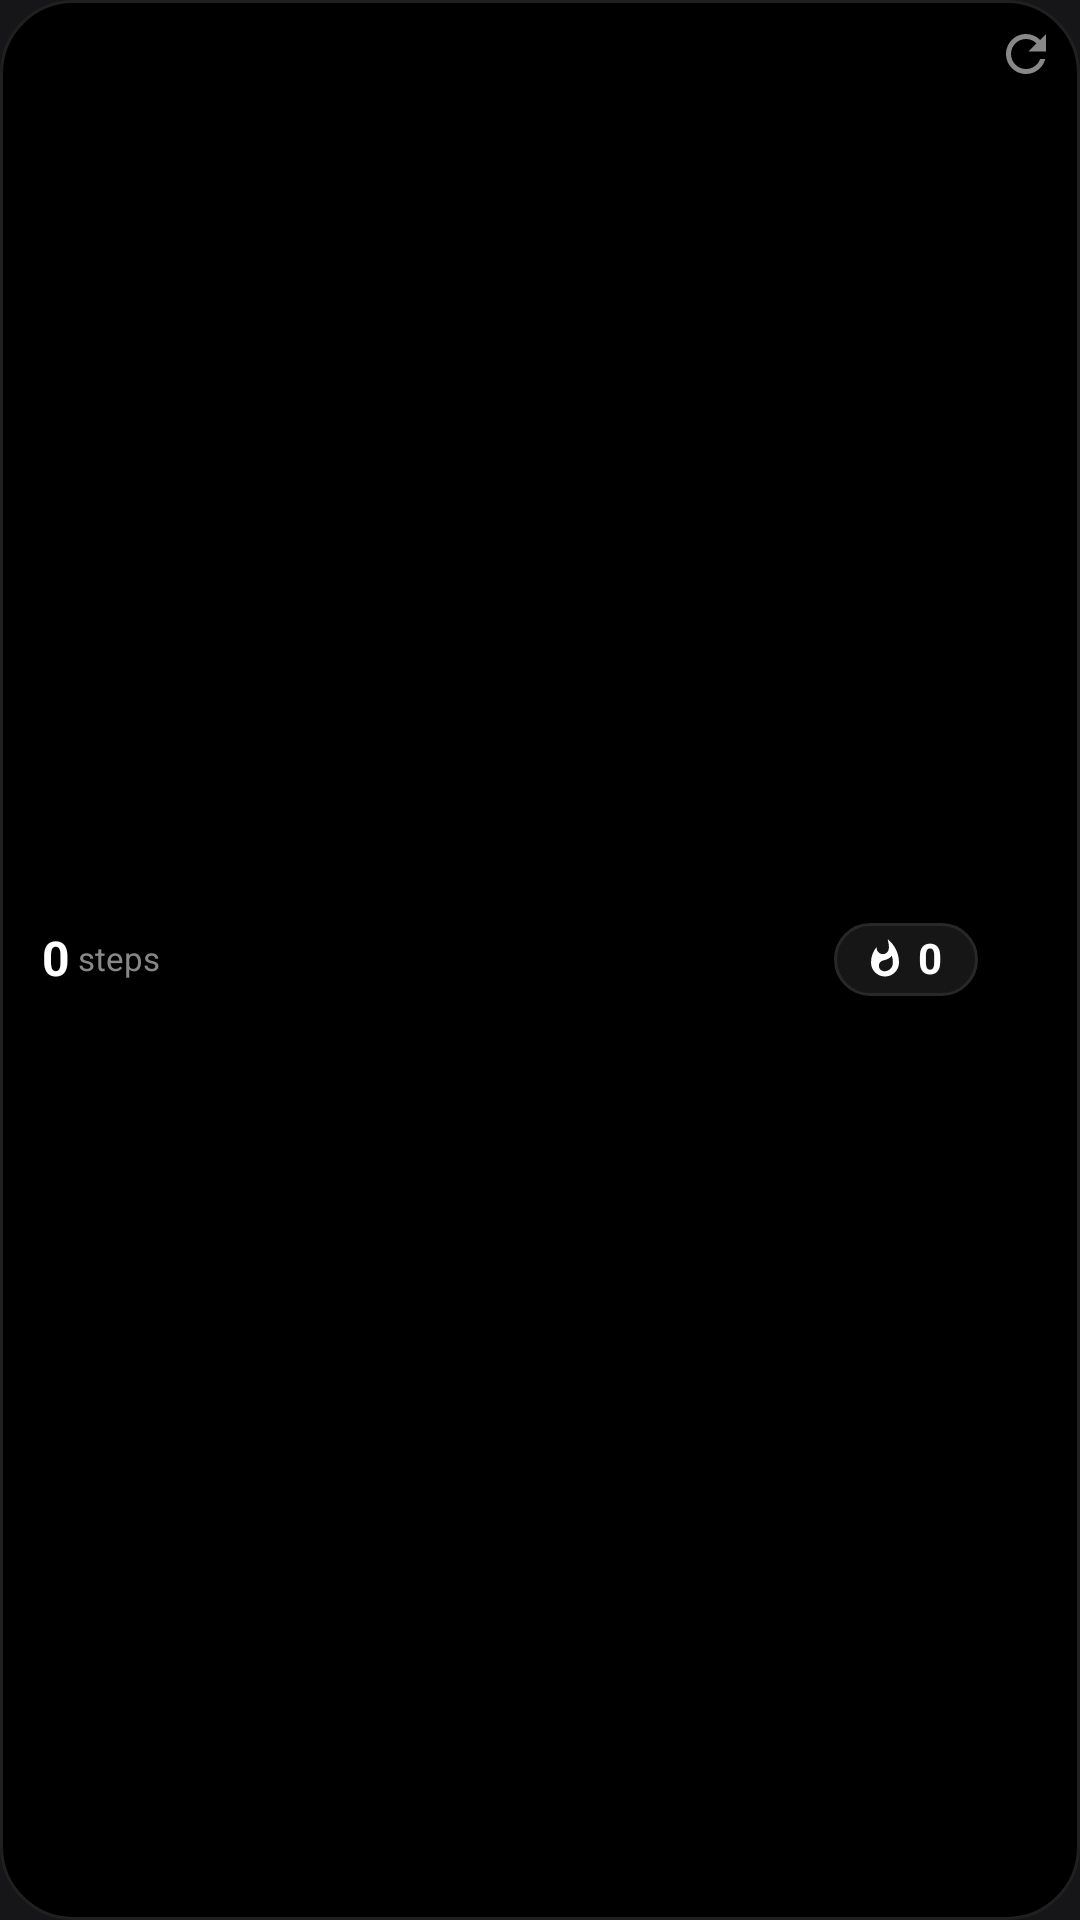

Icons on this 1080*1920 Android screen, each with the point to tap as [x,y]:
Calories Burned: [885,958]
Refresh Steps: [1026,54]
